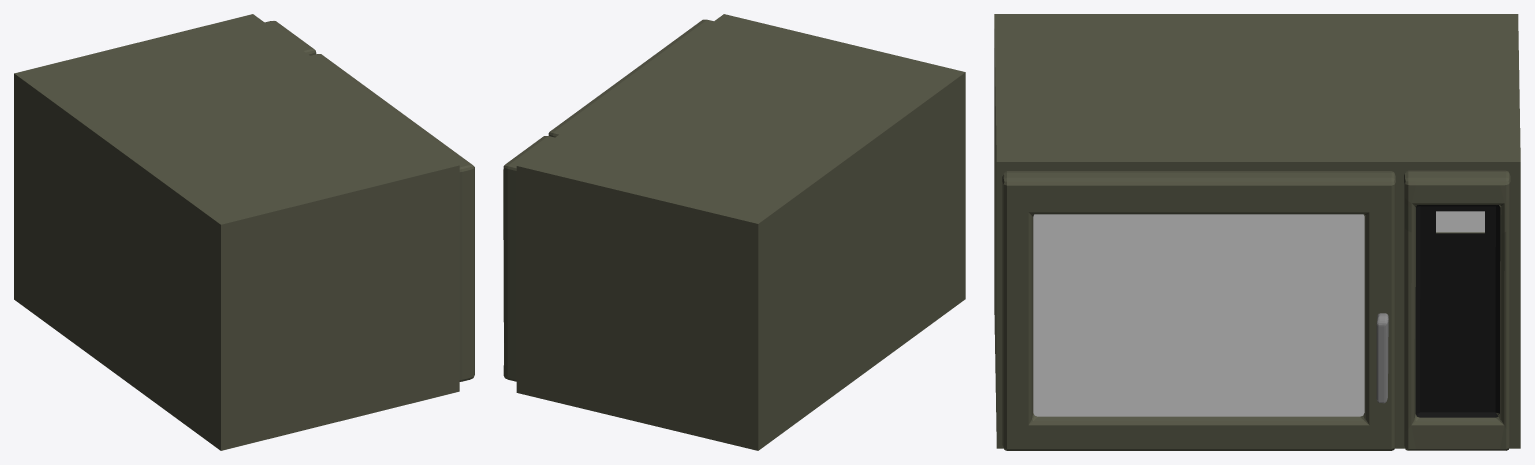
The model's file is microwave.fbx.
3 renders of one model, left to right at view 1: azimuth 30°, elevation 25°; view 2: azimuth 150°, elevation 25°; view 3: azimuth 270°, elevation 25°, orthographic. The views are drawn at different scales.
Visible parts, largest first — view 1: body, door, controls; view 2: body, controls, door; view 3: body, window, door, controls, handle, window.001.
Boxes of the visible parts, box(x1,y1,x2,y2) form: body: box(14, 14, 459, 450); door: box(310, 54, 474, 381); controls: box(265, 21, 316, 55); body: box(516, 14, 965, 450); controls: box(503, 136, 554, 381); door: box(548, 19, 713, 137); body: box(994, 14, 1520, 448); window: box(1033, 214, 1364, 416); door: box(1002, 171, 1395, 450); controls: box(1404, 170, 1510, 450); handle: box(1376, 313, 1388, 403); window.001: box(1436, 211, 1484, 232).
Size of the model in its own units: 248 by 200 by 333.
Materials: 4 (1 with a texture image).
